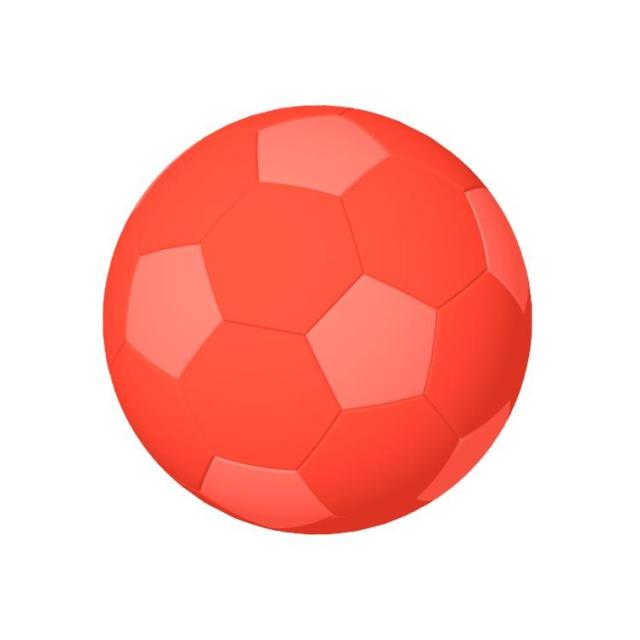Soccer Ball: (96, 106, 532, 533)
